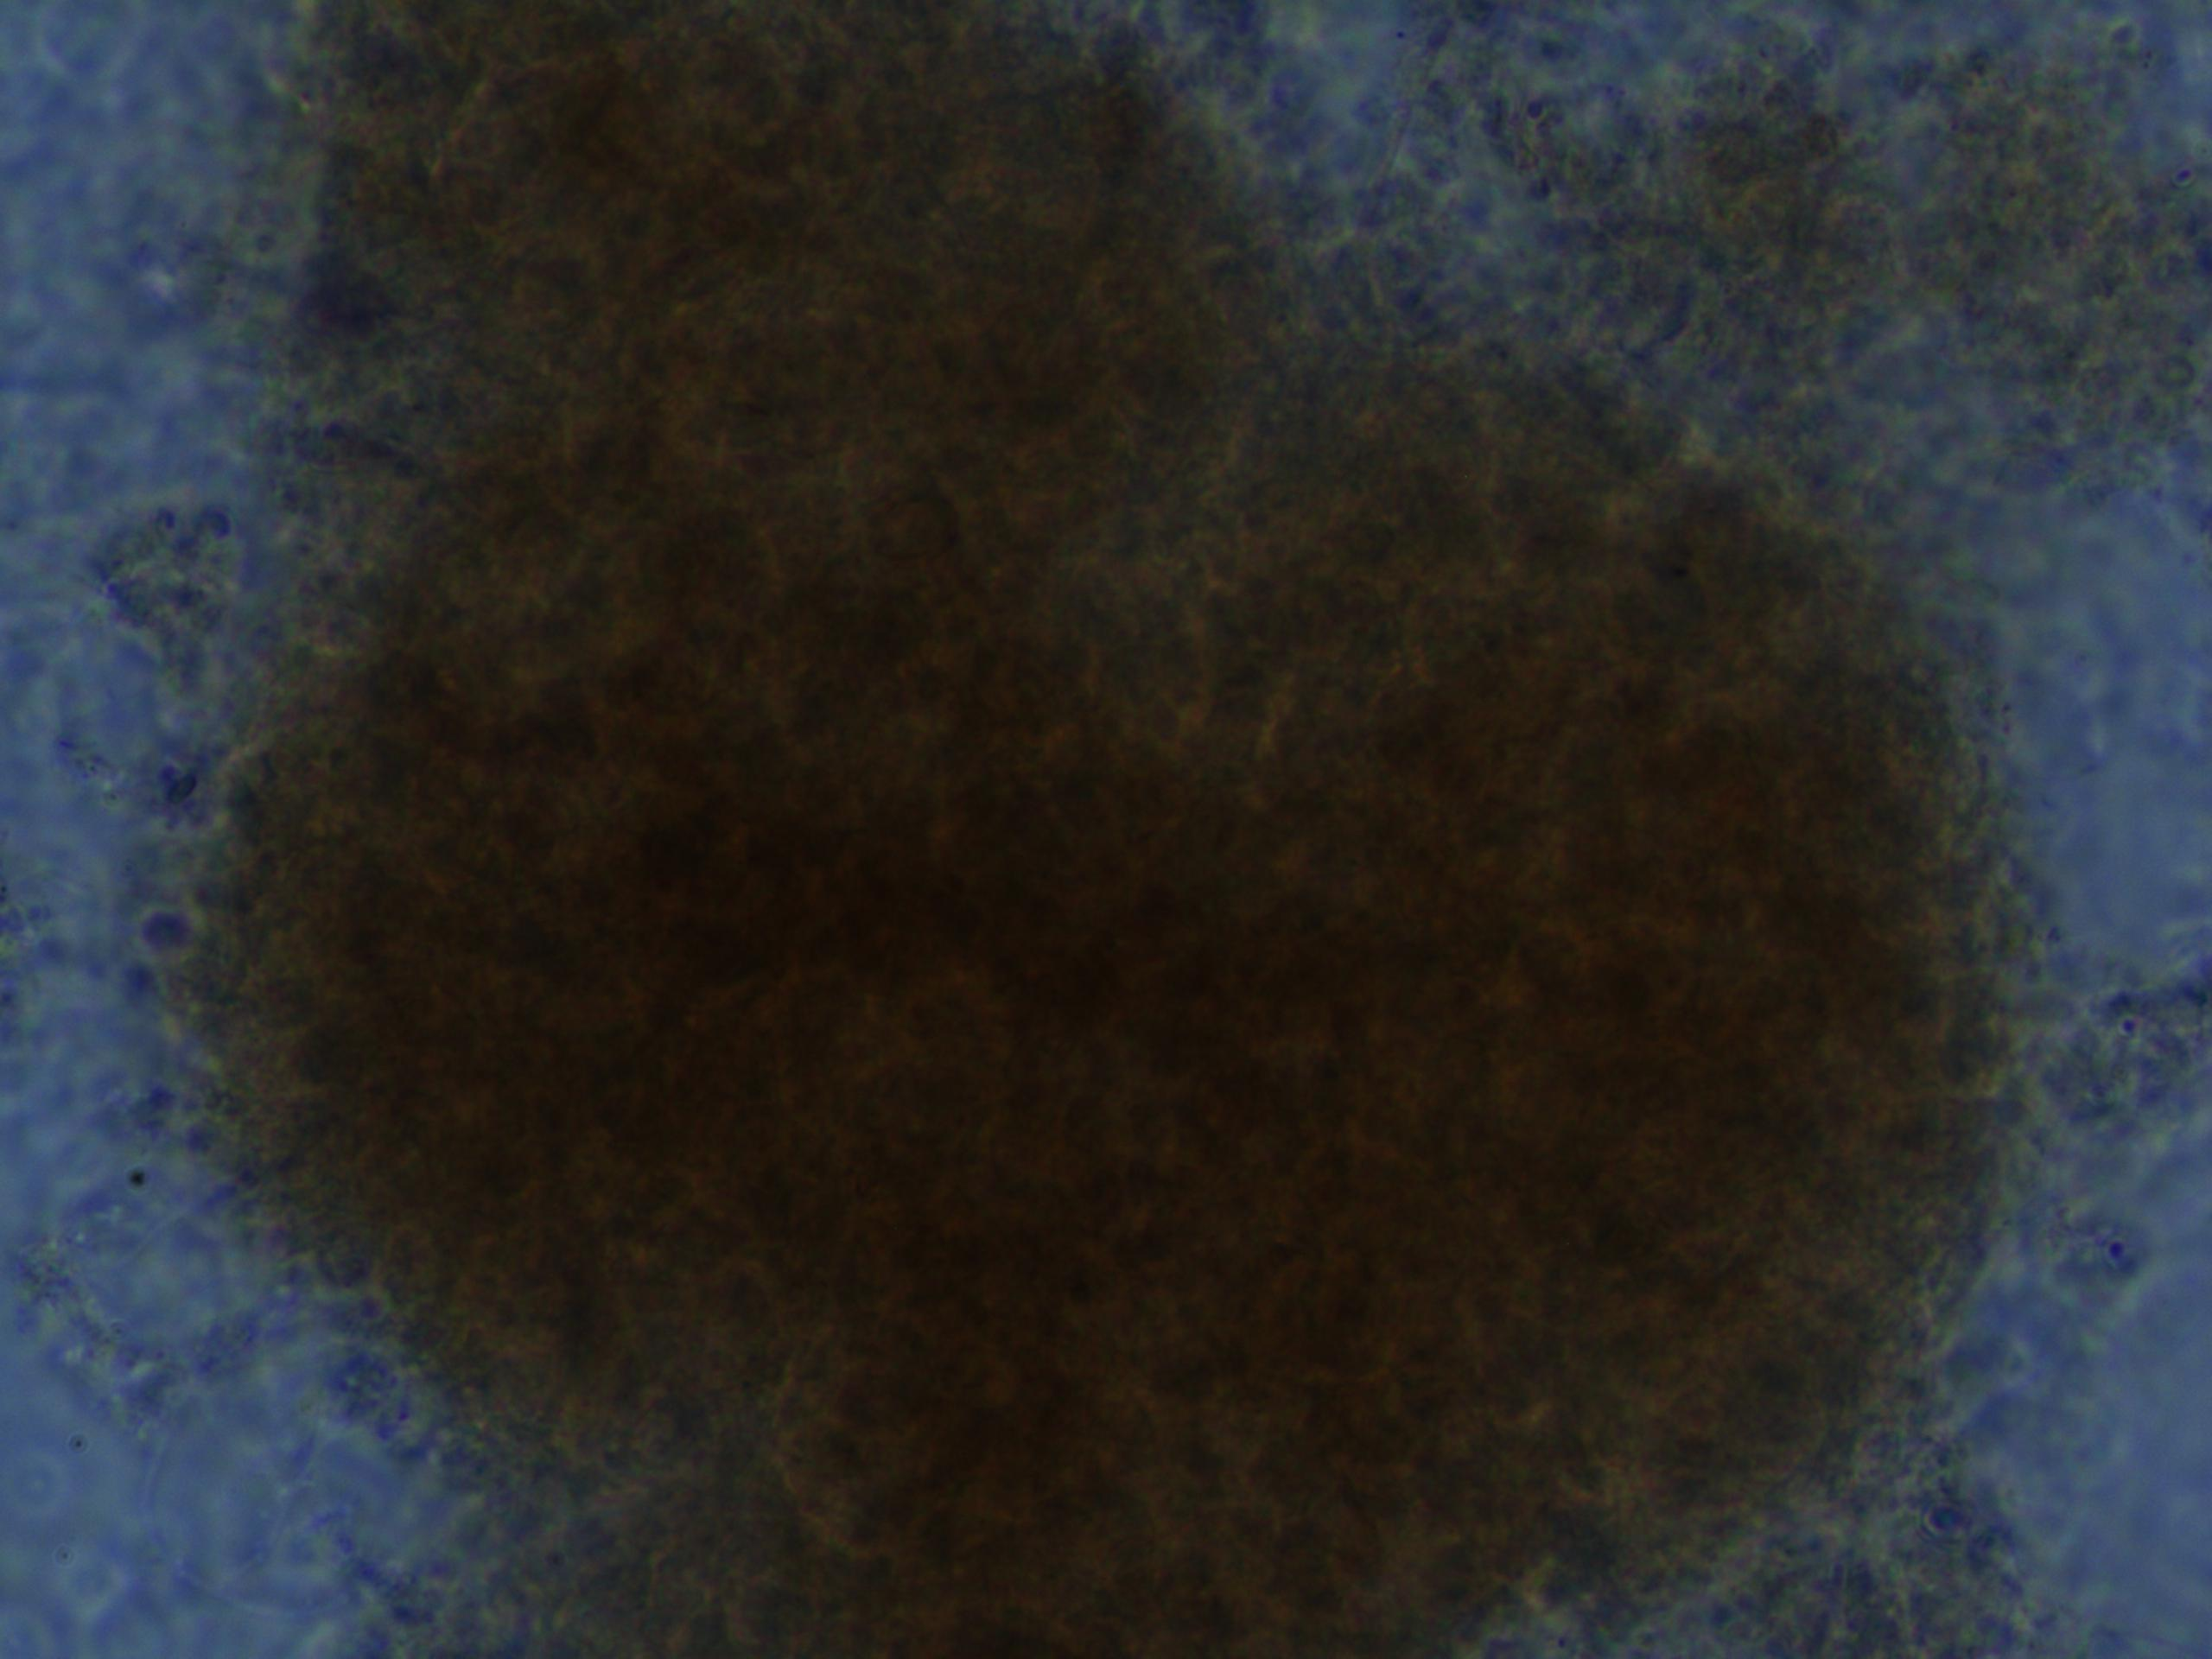spherical_floc: (150, 0, 2055, 1654)
